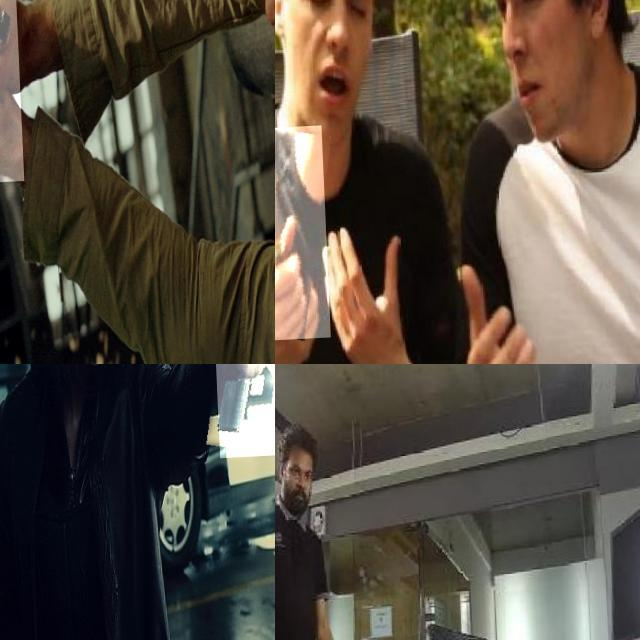-: (275, 127, 328, 343)
gun-knife-thesis - v11 Yolov5 augmented: (0, 0, 87, 190), (206, 364, 275, 516)
